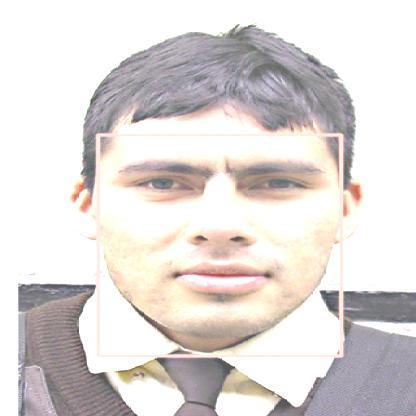without_mask: (98, 135, 341, 356)
